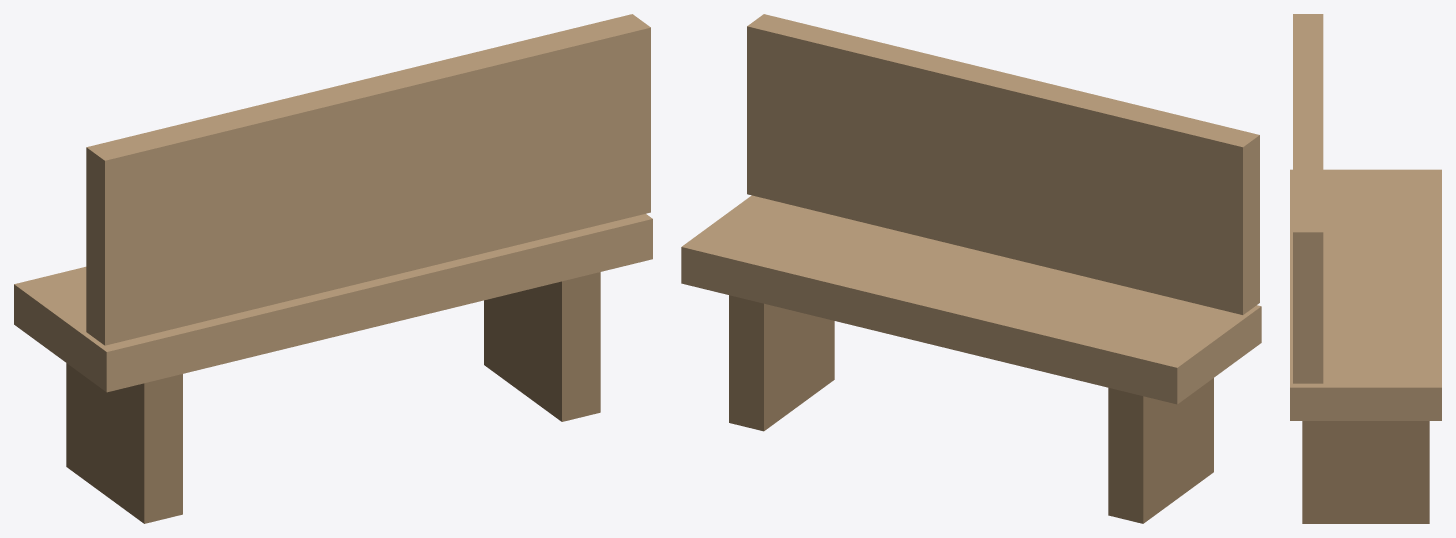
The model's file is bench.glb.
The picture shows the model from 3 angles, left to right: view 1: azimuth 30°, elevation 25°; view 2: azimuth 150°, elevation 25°; view 3: azimuth 270°, elevation 25°; orthographic projection. The views are drawn at different scales.
Parts seen in each view (by area): view 1: BnBack, BnSeat, BnLegL, BnLegR; view 2: BnBack, BnSeat, BnLegL, BnLegR; view 3: BnSeat, BnLegR, BnBack.
Part boxes in pixels (<box>): BnBack: <box>86,14,650,345</box>; BnSeat: <box>14,214,652,392</box>; BnLegL: <box>66,363,182,523</box>; BnLegR: <box>484,272,600,421</box>; BnBack: <box>747,14,1259,314</box>; BnSeat: <box>681,195,1261,404</box>; BnLegL: <box>1108,378,1213,523</box>; BnLegR: <box>729,295,834,431</box>; BnSeat: <box>1290,169,1441,420</box>; BnLegR: <box>1302,421,1429,523</box>; BnBack: <box>1293,14,1323,383</box>.
Bounding box in the file's own units: 1.7 × 1.13 × 0.5.
